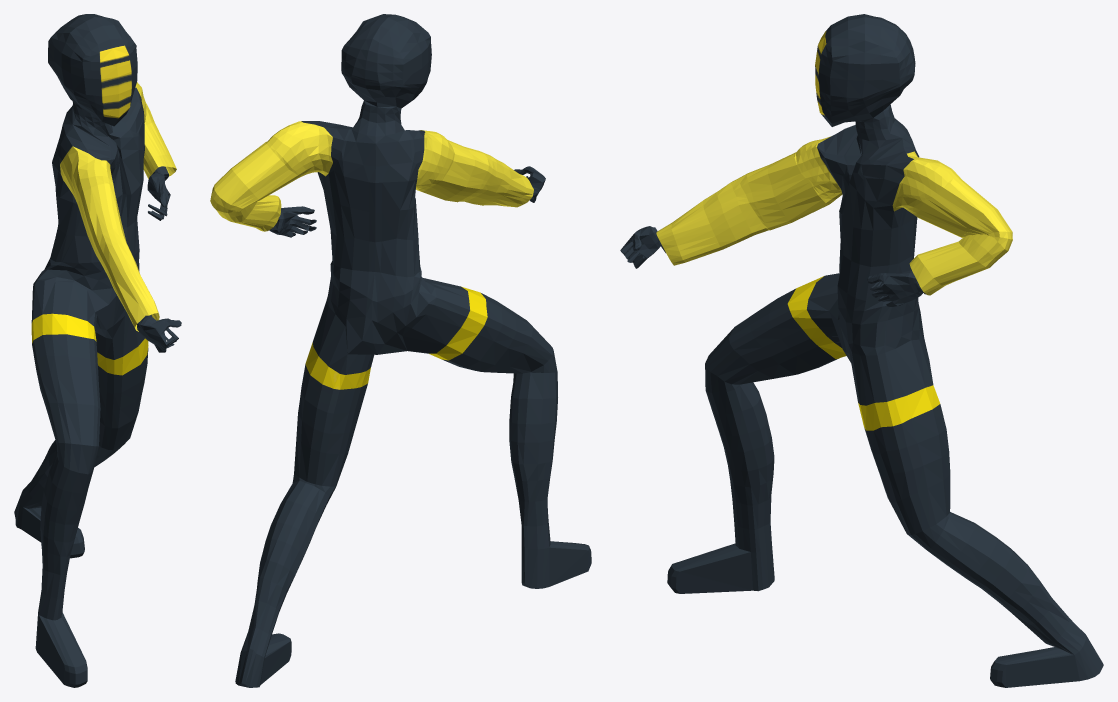
The model's file is Sentry_WL_000017.obj.
The picture shows the model from 3 angles, left to right: view 1: azimuth 30°, elevation 25°; view 2: azimuth 150°, elevation 25°; view 3: azimuth 270°, elevation 25°; orthographic projection. The views are drawn at different scales.
Parts seen in each view (by area): view 1: Cube; view 2: Cube; view 3: Cube.
Part boxes in pixels (<box>): Cube: <box>14,14,181,687</box>; Cube: <box>210,14,591,687</box>; Cube: <box>620,14,1103,687</box>.
Size of the model in its own units: 1.43 by 3.59 by 2.44.
